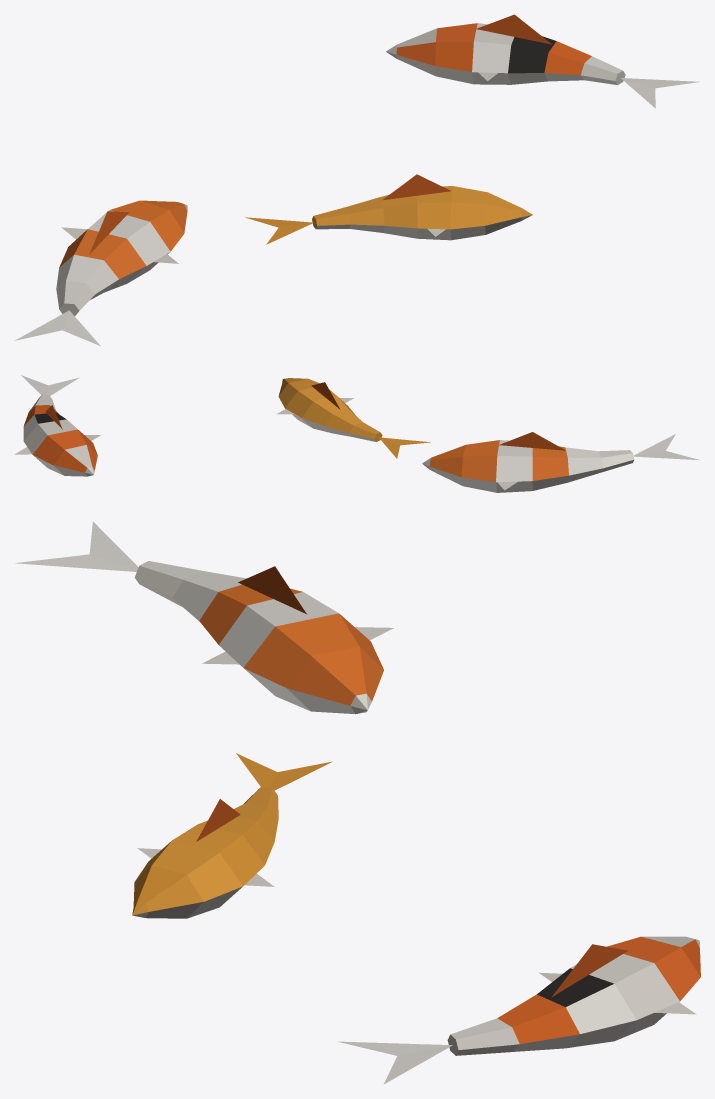
Rendered from zen_koi.glb.
3 views of the same model, one above another, from view 1: azimuth 30°, elevation 25°; view 2: azimuth 150°, elevation 25°; view 3: azimuth 270°, elevation 25° (orthographic). The views are drawn at different scales.
Visible parts, largest first — view 1: zen_koi; view 2: zen_koi; view 3: zen_koi.
Boxes of the visible parts, box(x1,y1,x2,y2) form: zen_koi: box(14, 14, 699, 346); zen_koi: box(14, 375, 699, 492); zen_koi: box(15, 521, 700, 1084).
Size of the model in its own units: 2.38 by 0.2257 by 1.25.
